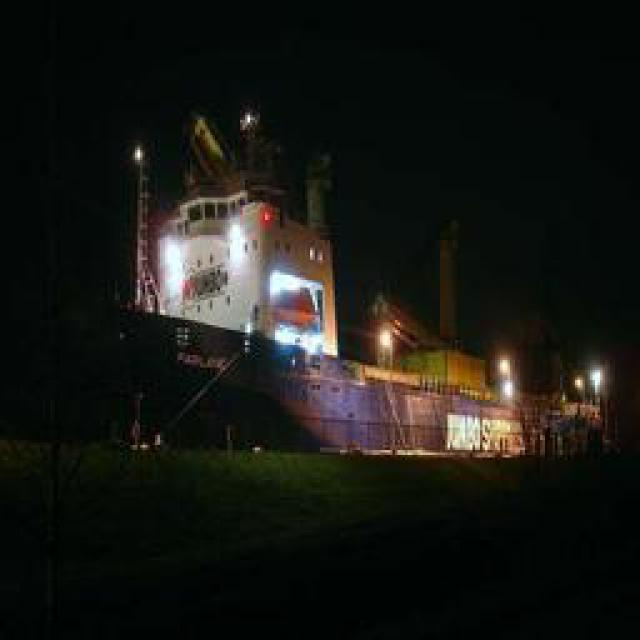Ship: (102, 102, 636, 471)
